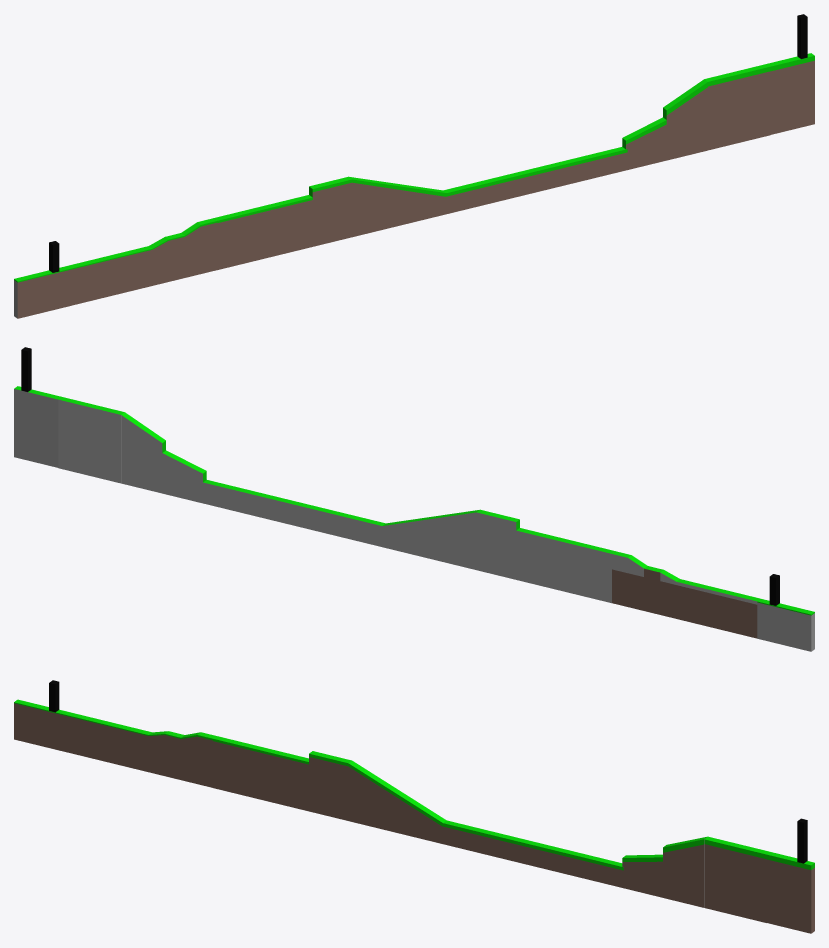
The model's file is first_1.fbx.
The picture shows the model from 3 angles, top to bottom: view 1: azimuth 30°, elevation 25°; view 2: azimuth 150°, elevation 25°; view 3: azimuth 330°, elevation 25°; orthographic projection.
Visible parts, largest first — view 1: pCube4; view 2: pCube4; view 3: pCube4.
Part boxes in pixels (x1,y1,x2,y2): pCube4: [14, 14, 814, 318]; pCube4: [14, 347, 814, 651]; pCube4: [14, 680, 814, 933].
Bounding box in the file's own units: 246 × 32.3 × 2.02.
